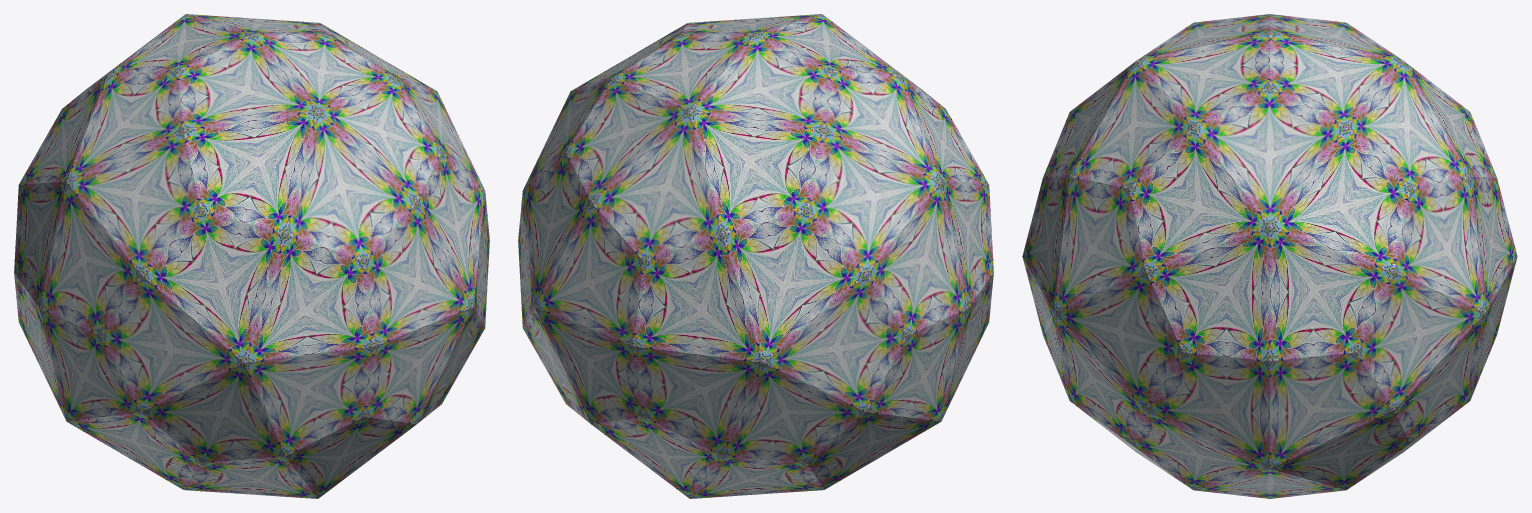
The model's file is DeltoidalHexecontahedron3.obj.
3 renders of one model, left to right at view 1: azimuth 30°, elevation 25°; view 2: azimuth 150°, elevation 25°; view 3: azimuth 270°, elevation 25°, orthographic.
Bounding box in the file's own units: 4.47 × 4.47 × 4.47.
Materials: 1 (1 with a texture image).
